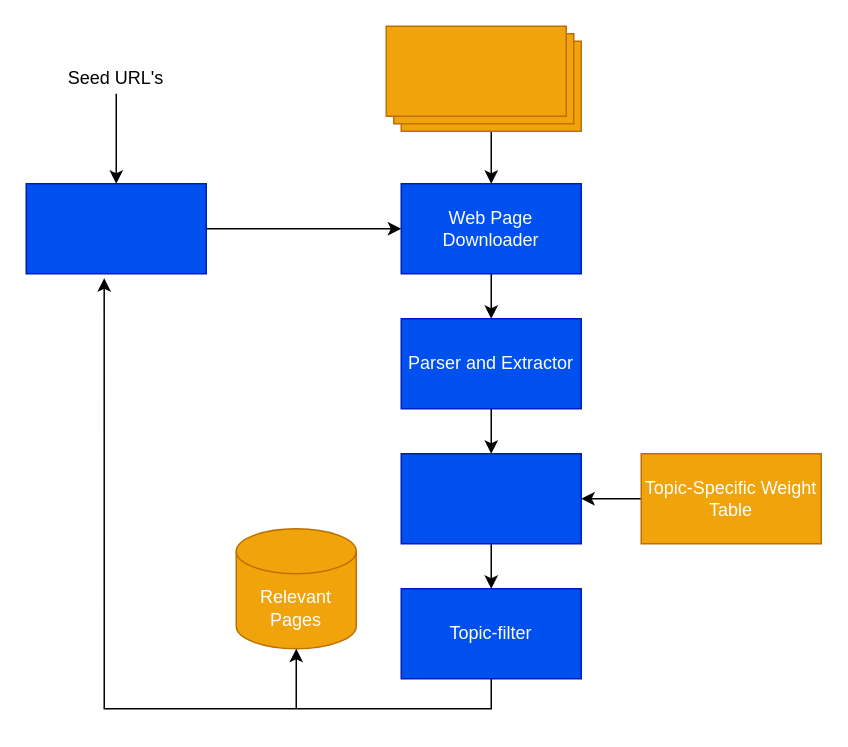
This 848x747 diagram has some shape labels left out. The shapes that lost their labels are listed below. From the top down, each one's centre as x and y in pixels, then its label:
At (x=483, y=78): "Web".
At (x=115, y=228): "URL List".
At (x=490, y=498): "Relevance Calculator".
